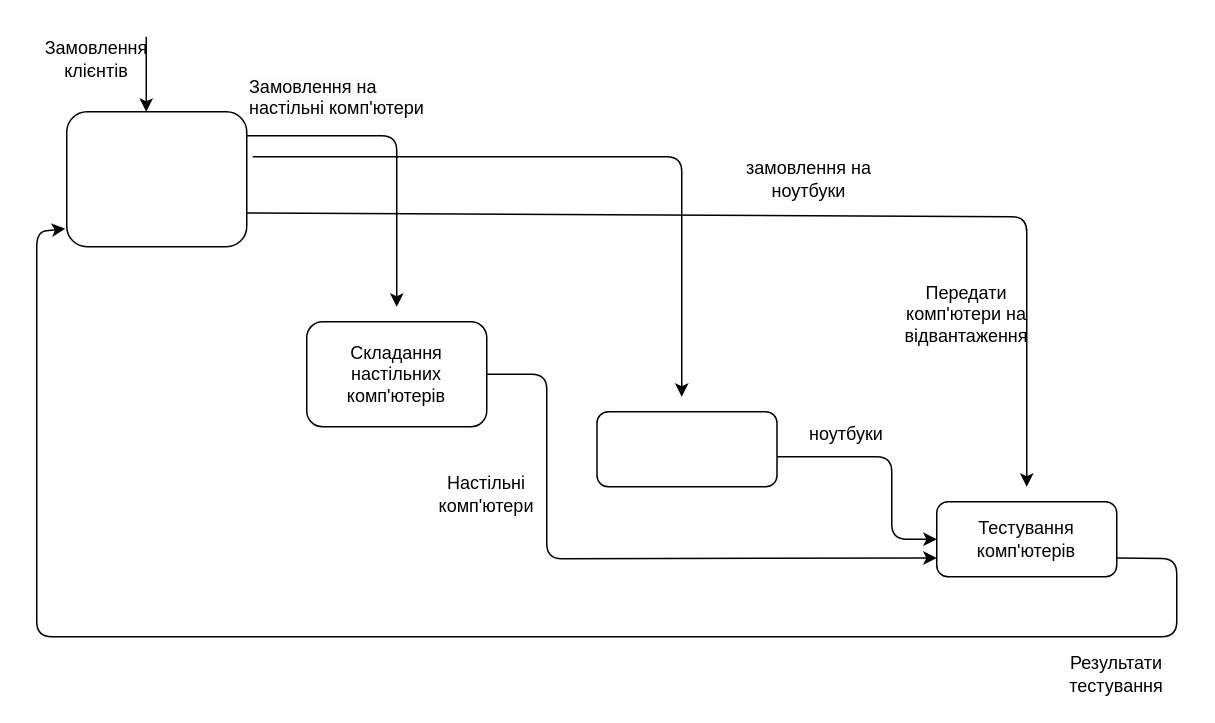
This 1215x723 diagram has some shape labels left out. The shapes that lost their labels are listed below. From the top down, each one's centre as x and y in pixels, then its label:
(156,178): Відслідковування розкладу і управління складанням і тестуванням
(686,448): Складання ноутбуків
